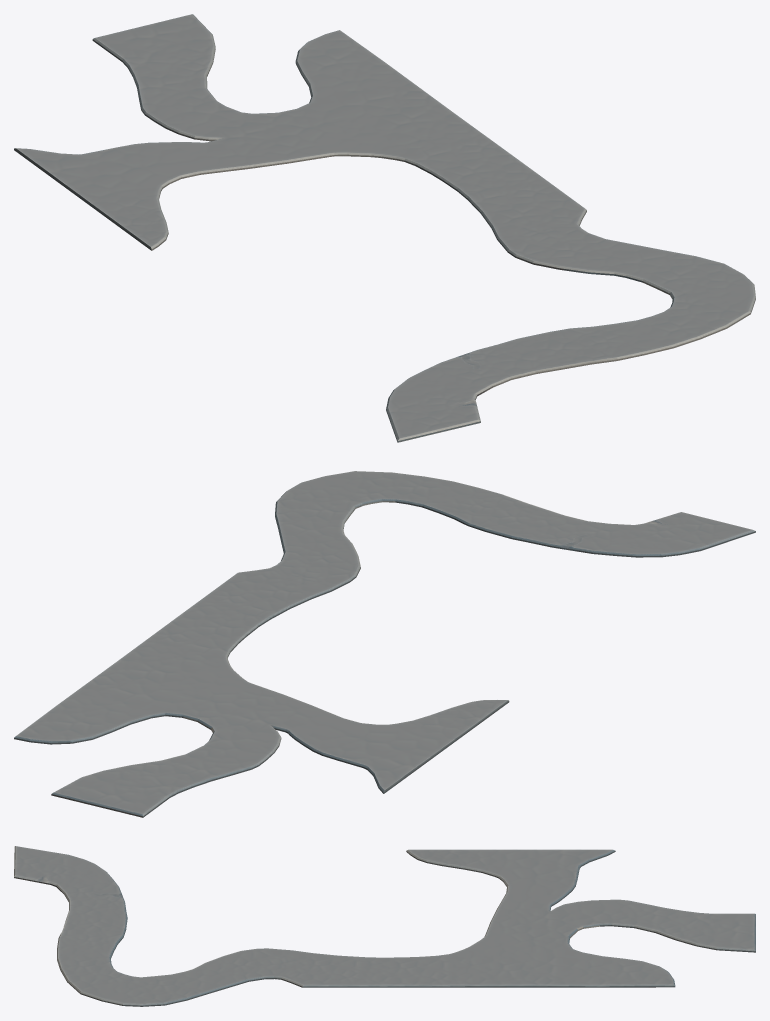
The model's file is PathTESTTEXTURE___.fbx.
3 views of the same model, one above another, from view 1: azimuth 30°, elevation 25°; view 2: azimuth 150°, elevation 25°; view 3: azimuth 270°, elevation 25° (orthographic). The views are drawn at different scales.
Parts seen in each view (by area): view 1: Path_LOW; view 2: Path_LOW; view 3: Path_LOW.
Part boxes in pixels (box(x1,y1,x2,y2)): Path_LOW: box(14, 14, 755, 442); Path_LOW: box(14, 471, 755, 817); Path_LOW: box(14, 846, 755, 1006).
Size of the model in its own units: 1933 by 12.81 by 3800.
Materials: 1 (1 with a texture image).
